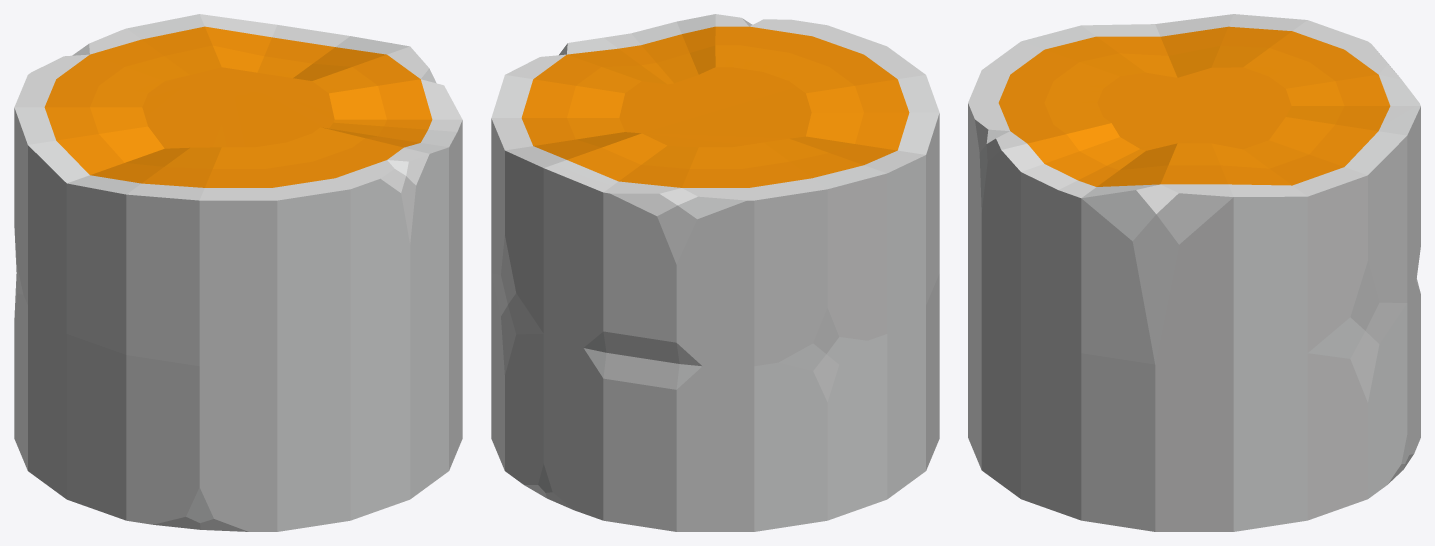
Rendered from Tree log_14.fbx.
3 renders of one model, left to right at view 1: azimuth 30°, elevation 25°; view 2: azimuth 150°, elevation 25°; view 3: azimuth 270°, elevation 25°, orthographic.
Visible parts, largest first — view 1: Circle.201; view 2: Circle.201; view 3: Circle.201.
Part boxes in pixels (x1,y1,x2,y2): Circle.201: [14, 14, 462, 531]; Circle.201: [491, 14, 939, 531]; Circle.201: [968, 14, 1420, 531].
Bounding box in the file's own units: 23.2 × 19.22 × 23.56.
